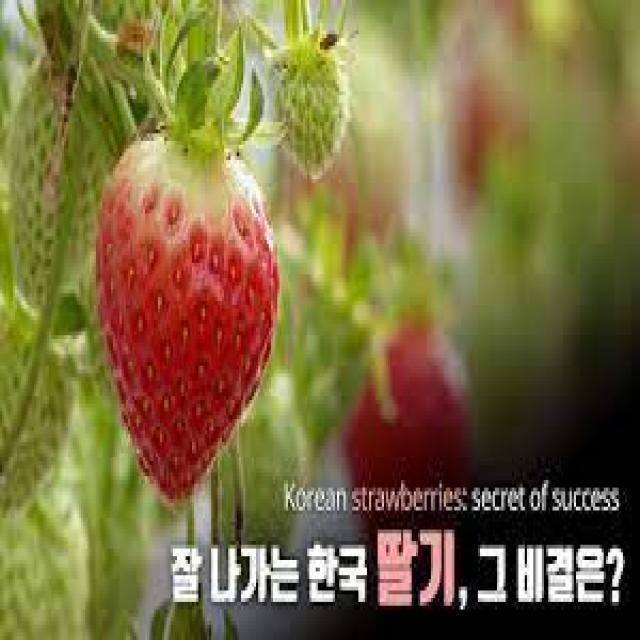Strawberry: (92, 126, 280, 503), (3, 71, 107, 305), (3, 313, 71, 507), (267, 42, 351, 175)
